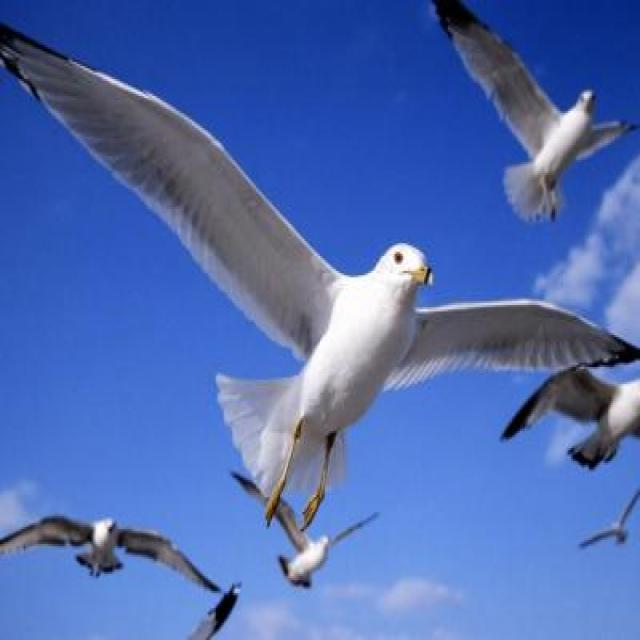birds: (5, 23, 640, 550), (431, 1, 639, 230), (0, 498, 229, 612), (231, 454, 388, 600), (501, 338, 640, 472), (569, 490, 640, 556)
